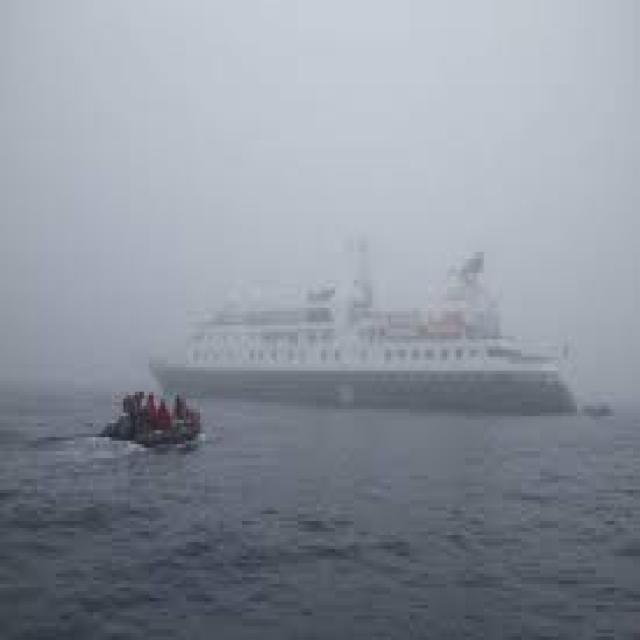passenger ship: (140, 269, 585, 418)
